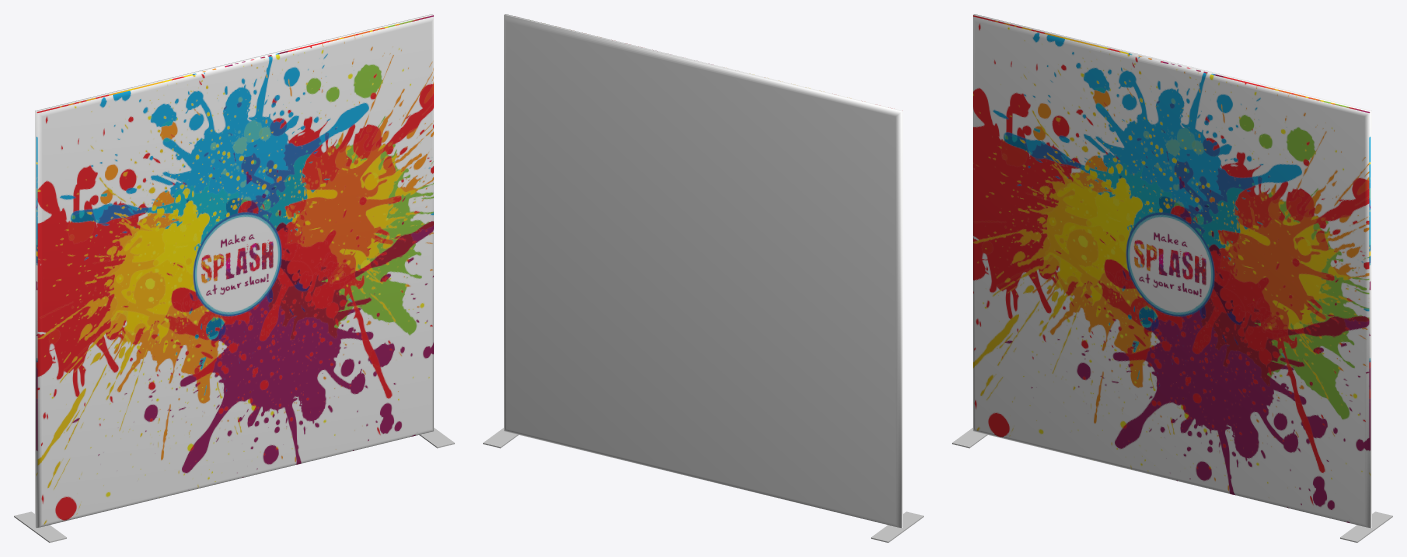
Rendered from 91x91 y fix2 .glb.
The picture shows the model from 3 angles, left to right: view 1: azimuth 30°, elevation 25°; view 2: azimuth 150°, elevation 25°; view 3: azimuth 330°, elevation 25°; orthographic projection.
Visible parts, largest first — view 1: 91x91 Frame, Foot; view 2: 91x91 Frame, Foot; view 3: 91x91 Frame, Foot.001.
Part boxes in pixels (left/top/right/bottom): 91x91 Frame: left=35, top=14, right=433, bottom=527; Foot: left=14, top=511, right=66, bottom=542; 91x91 Frame: left=504, top=14, right=902, bottom=527; Foot: left=871, top=511, right=923, bottom=542; 91x91 Frame: left=973, top=14, right=1371, bottom=527; Foot.001: left=1340, top=511, right=1392, bottom=542.
Size of the model in its own units: 2.34 by 2.31 by 0.3556.
3 materials, 1 textured.
